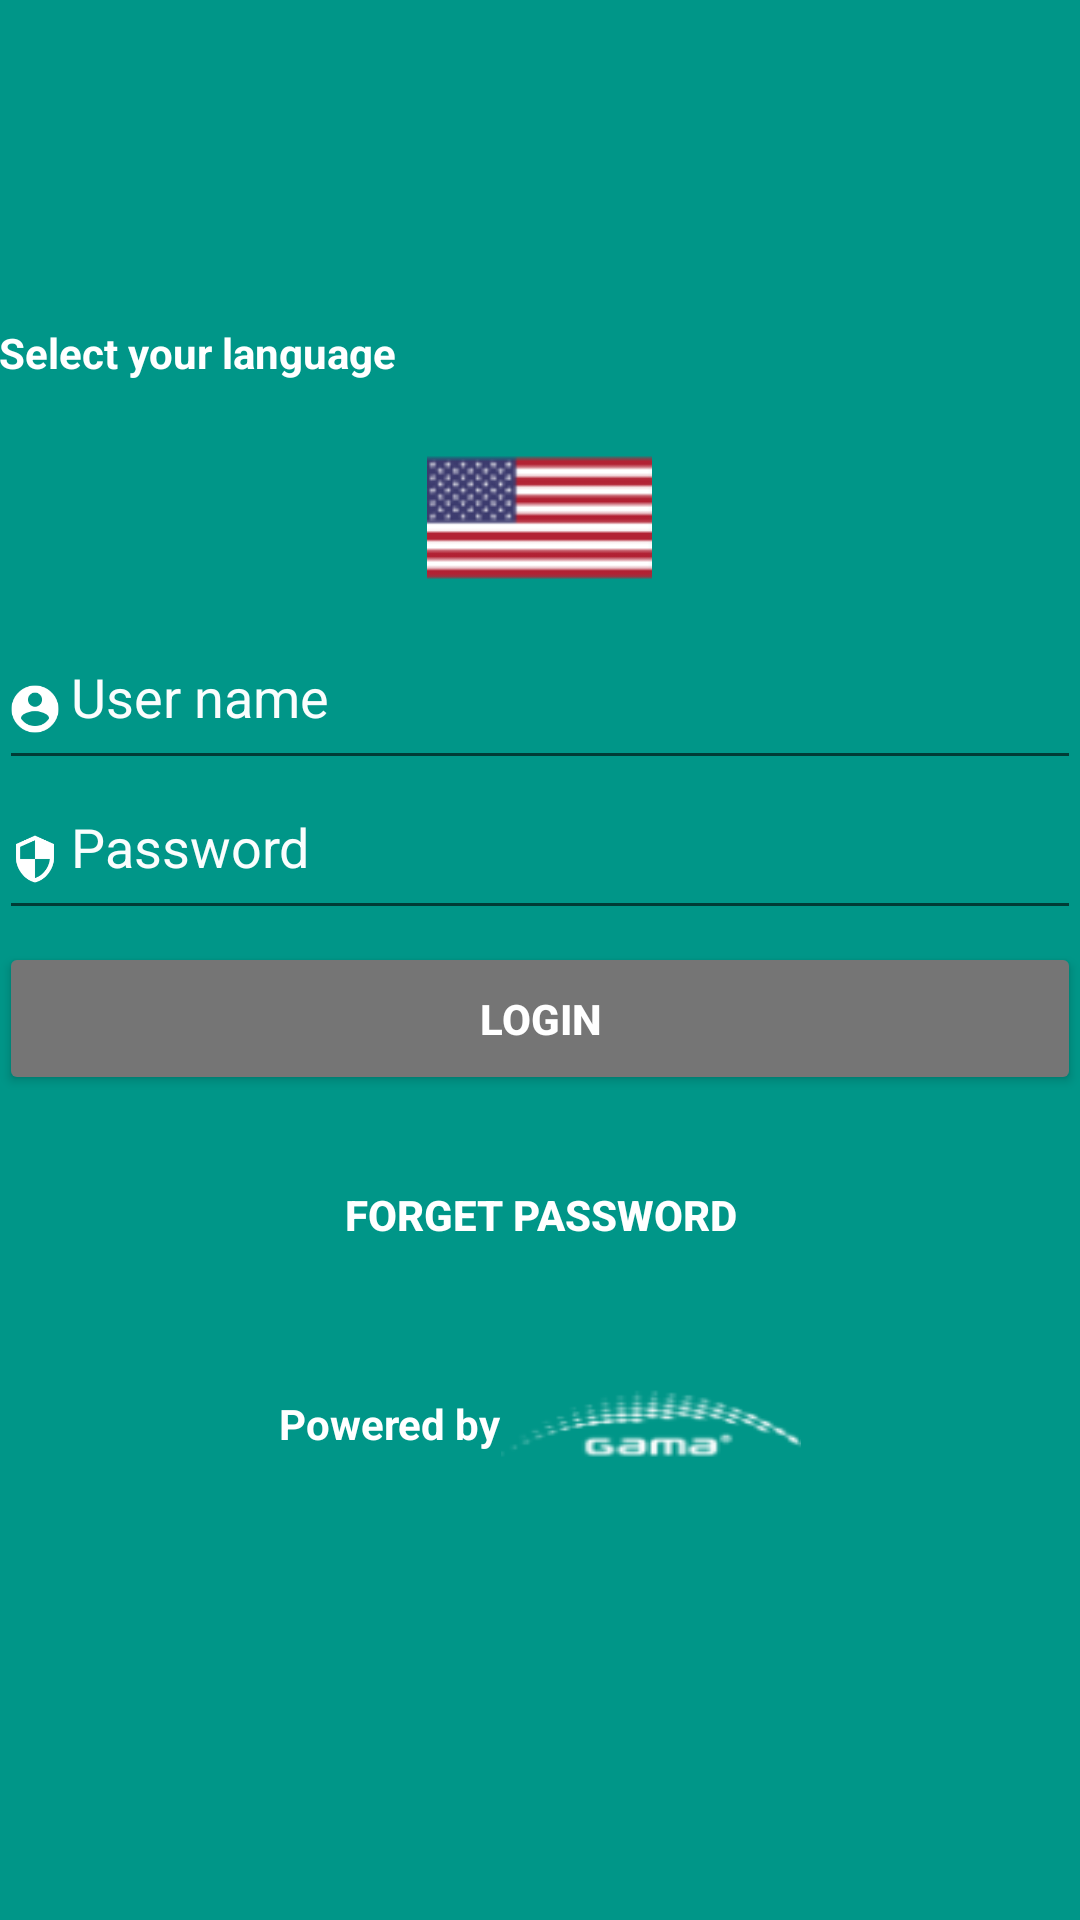

Named icons in this screenshot (1080 × 1920) and their centers, (x=x, y=y):
Language country flag: (x=539, y=517)
